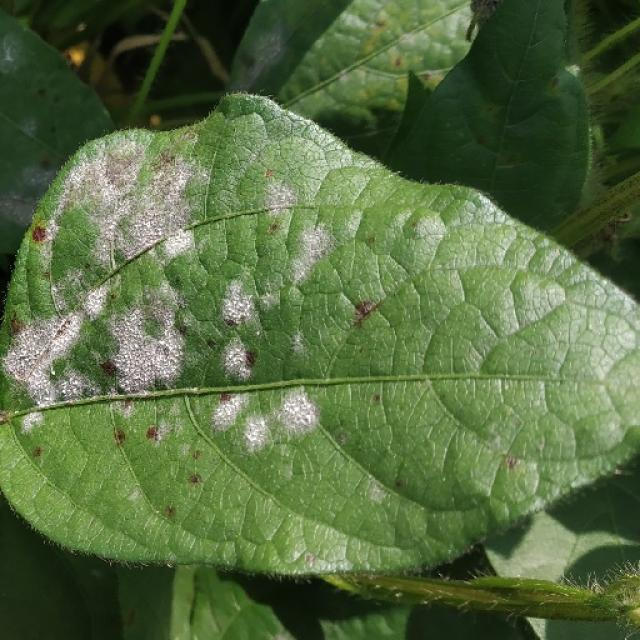Blackgram: (0, 95, 639, 576)
Powdery_Mildew: (6, 153, 219, 416), (237, 184, 343, 292), (99, 155, 193, 263), (105, 301, 184, 390), (225, 384, 322, 451), (8, 320, 76, 393), (290, 222, 334, 277), (270, 386, 319, 435), (100, 147, 145, 188), (221, 283, 255, 327), (211, 394, 245, 433), (261, 180, 297, 213), (55, 375, 91, 404), (161, 227, 193, 259), (223, 345, 253, 379), (243, 416, 270, 449), (83, 286, 108, 318), (21, 411, 46, 434), (289, 331, 306, 357), (367, 483, 387, 504), (20, 118, 38, 139), (127, 487, 141, 500)
